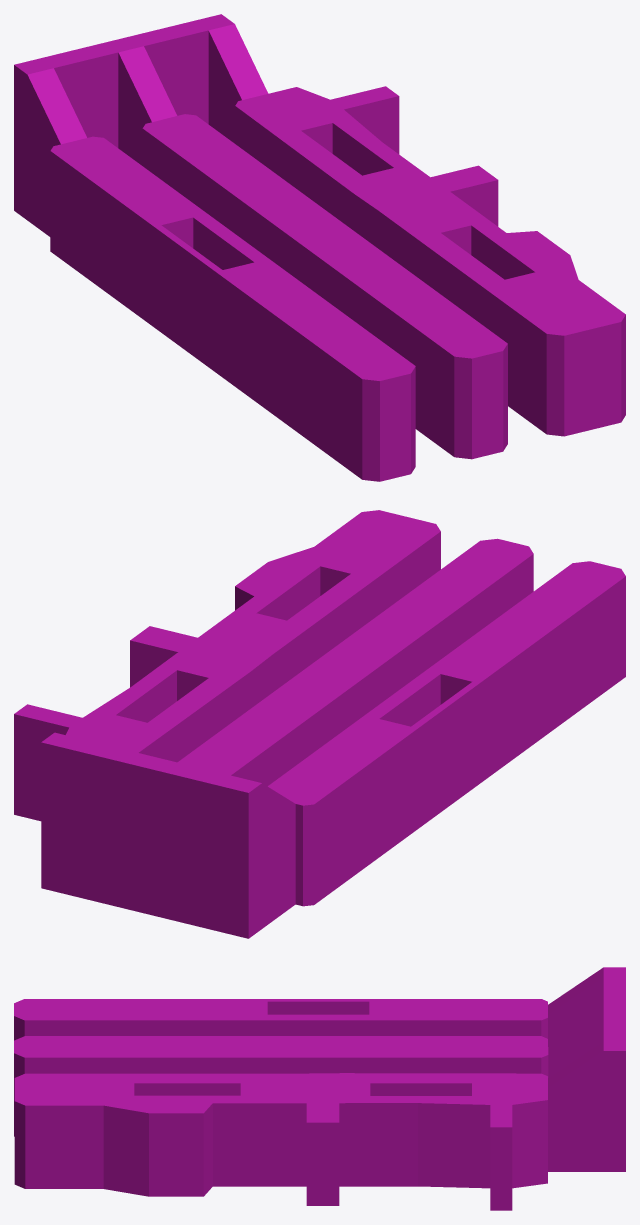
File: astar_baseMesh.fbx
3 views of the same model, one above another, from view 1: azimuth 30°, elevation 25°; view 2: azimuth 150°, elevation 25°; view 3: azimuth 270°, elevation 25° (orthographic). The views are drawn at different scales.
Parts seen in each view (by area): view 1: astar_baseMesh; view 2: astar_baseMesh; view 3: astar_baseMesh.
Part boxes in pixels (x1,y1,x2,y2): astar_baseMesh: (14,14,625,481); astar_baseMesh: (14,510,625,938); astar_baseMesh: (14,967,625,1210).
Size of the model in its own units: 51.71 by 22.69 by 104.
